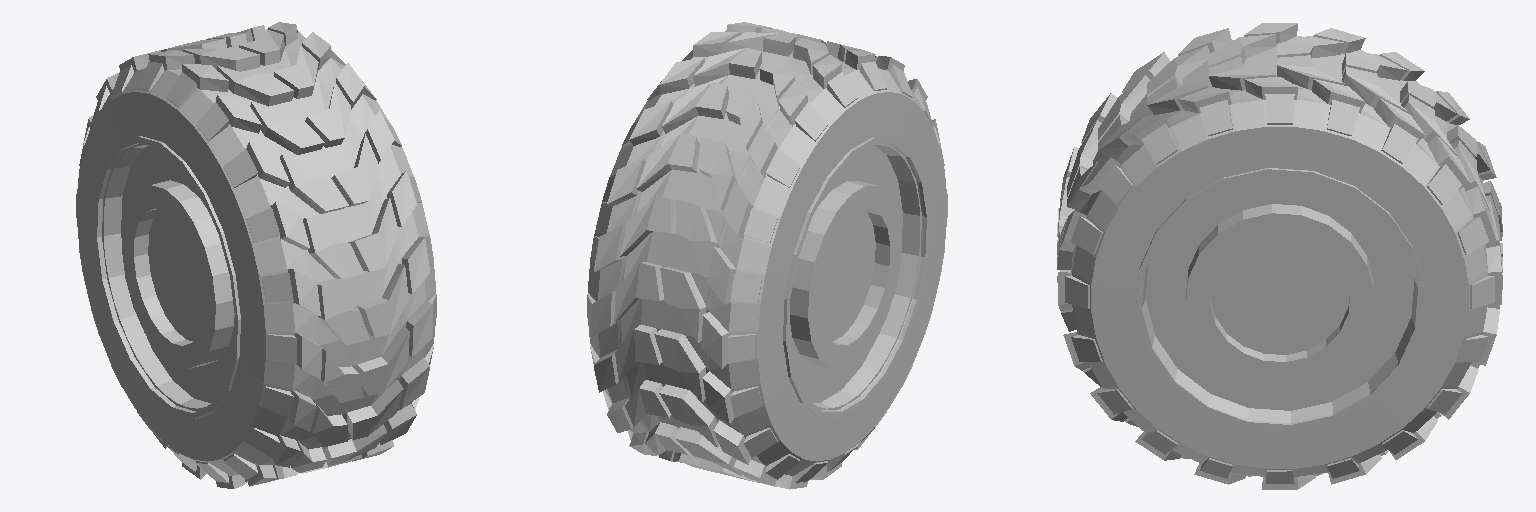
File: Rover_wheel.obj
The picture shows the model from 3 angles: view 1: azimuth 30°, elevation 25°; view 2: azimuth 150°, elevation 25°; view 3: azimuth 270°, elevation 25°; orthographic projection.
Visible parts, largest first — view 1: Wheel_front_left; view 2: Wheel_front_left; view 3: Wheel_front_left.
Boxes of the visible parts, x1,y1,x2,y2 form: Wheel_front_left: [76, 22, 436, 488]; Wheel_front_left: [587, 22, 947, 489]; Wheel_front_left: [1057, 23, 1502, 489].
Size of the model in its own units: 0.5249 by 1.13 by 1.13.